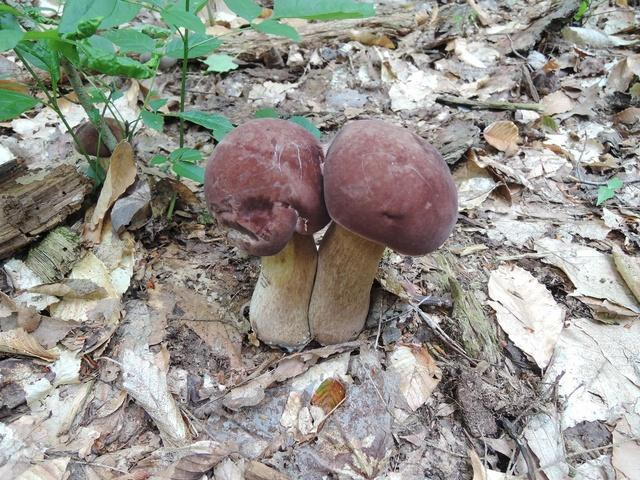poisonous_mushroom: (309, 117, 459, 346), (202, 116, 329, 350)
